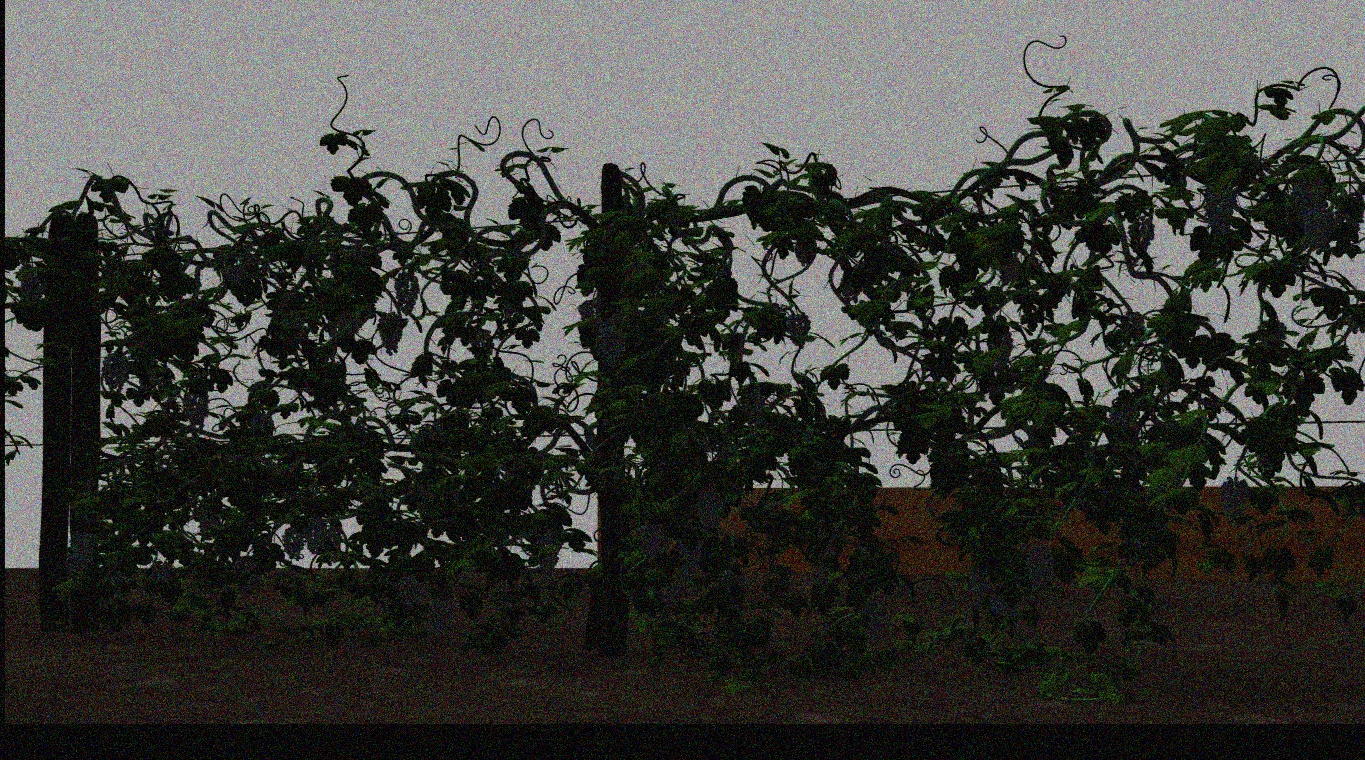grape: (1201, 182, 1236, 234), (595, 319, 628, 367), (1219, 475, 1250, 525), (1290, 174, 1325, 217), (1024, 541, 1054, 588), (535, 525, 561, 574), (694, 489, 724, 531), (391, 271, 420, 314), (861, 599, 889, 643), (636, 521, 665, 563), (1107, 403, 1139, 441), (425, 597, 454, 637), (101, 352, 130, 392), (676, 537, 702, 581), (985, 330, 1014, 369), (1304, 206, 1331, 247), (181, 389, 209, 427), (394, 572, 421, 611), (192, 500, 220, 537), (378, 311, 402, 354), (739, 384, 766, 422), (1127, 215, 1155, 251), (17, 270, 48, 302), (302, 517, 328, 552), (68, 530, 97, 561), (1258, 318, 1287, 347), (281, 525, 305, 560), (786, 311, 812, 342), (987, 582, 1010, 617), (997, 253, 1022, 285), (967, 565, 991, 595), (1121, 308, 1145, 338), (147, 560, 175, 584), (658, 583, 683, 608), (231, 555, 257, 579), (576, 297, 600, 321), (809, 565, 828, 590), (63, 558, 86, 577)
